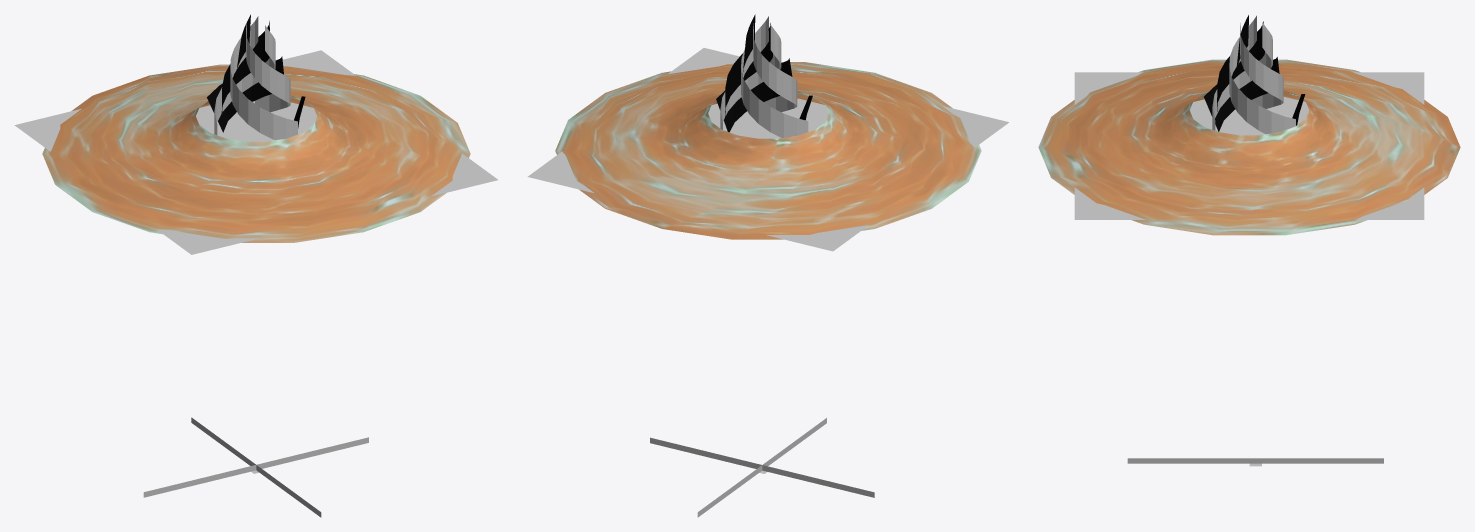
The model's file is skill.FBX.
3 renders of one model, left to right at view 1: azimuth 30°, elevation 25°; view 2: azimuth 150°, elevation 25°; view 3: azimuth 270°, elevation 25°, orthographic.
Visible parts, largest first — view 1: 2_2, 4_1, effect_2_1, 1_3_1, effect_4_001; view 2: 2_2, 4_1, effect_2_1, 1_3_1, effect_4_001; view 3: 2_2, 4_1, effect_2_1, effect_4_001, 1_3_1.
Boxes of the visible parts, left/top/right/bottom form: 2_2: left=42, top=64, right=470, bottom=242; 4_1: left=14, top=50, right=497, bottom=254; effect_2_1: left=214, top=16, right=297, bottom=140; 1_3_1: left=143, top=417, right=368, bottom=517; effect_4_001: left=207, top=14, right=305, bottom=132; 2_2: left=555, top=62, right=981, bottom=239; 4_1: left=527, top=48, right=1008, bottom=251; effect_2_1: left=720, top=16, right=808, bottom=137; 1_3_1: left=650, top=418, right=874, bottom=517; effect_4_001: left=716, top=14, right=812, bottom=132; 2_2: left=1038, top=59, right=1460, bottom=235; 4_1: left=1074, top=72, right=1424, bottom=219; effect_2_1: left=1212, top=15, right=1295, bottom=134; effect_4_001: left=1204, top=15, right=1305, bottom=131; 1_3_1: left=1127, top=458, right=1383, bottom=463.
Size of the model in its own units: 374 by 445 by 380.
